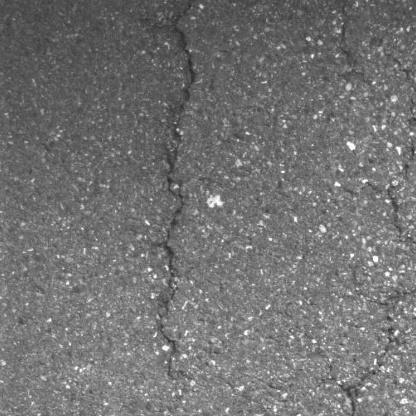Cracks: (155, 0, 214, 386), (363, 179, 416, 277), (380, 46, 416, 162), (335, 0, 374, 90), (326, 362, 362, 416), (376, 281, 416, 311)
